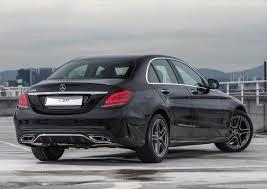mercedes: (60, 84, 66, 89)
